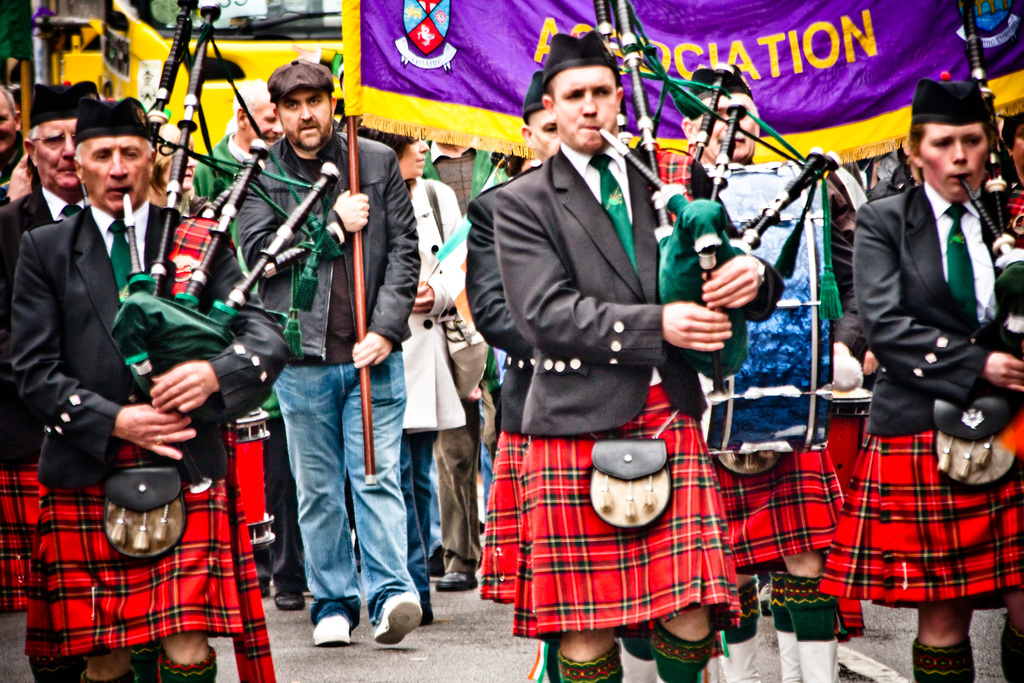Person: (0, 54, 1024, 683)
